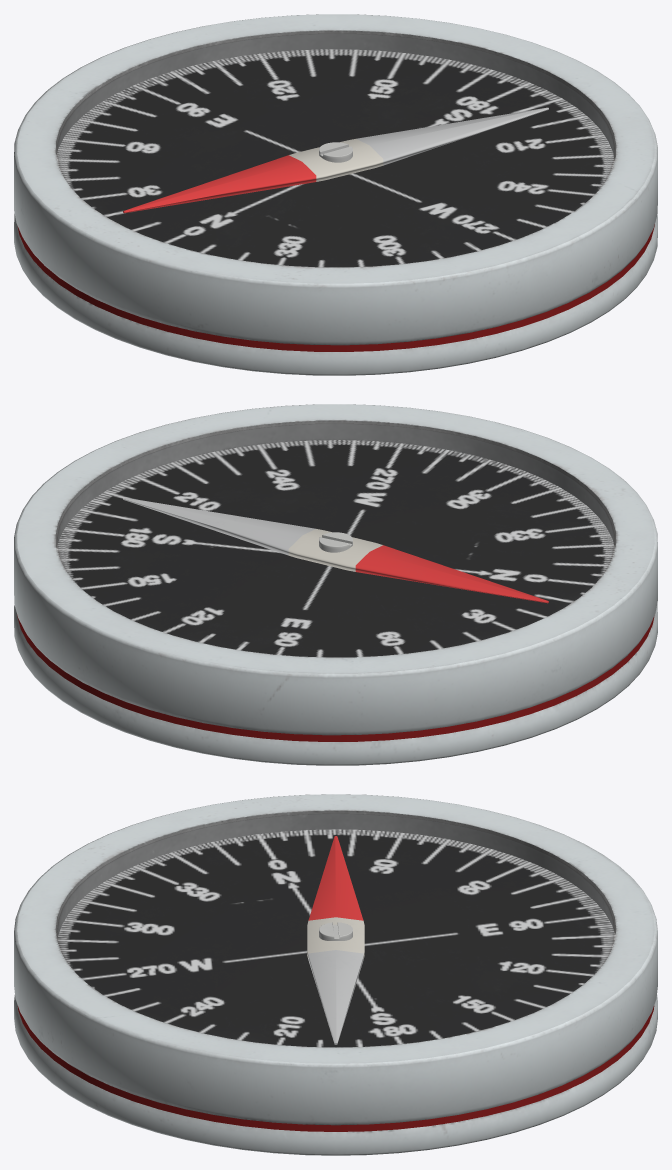
File: compass.fbx
The picture shows the model from 3 angles, top to bottom: view 1: azimuth 30°, elevation 25°; view 2: azimuth 150°, elevation 25°; view 3: azimuth 270°, elevation 25°; orthographic projection.
Visible parts, largest first — view 1: Circle.001, Cube.002, Circle.003, Circle.002; view 2: Circle.001, Cube.002, Circle.003, Circle.002; view 3: Circle.001, Cube.002, Circle.003, Circle.002.
Boxes of the visible parts, x1,y1,x2,y2 form: Circle.001: (14,14,657,375); Cube.002: (123,107,548,213); Circle.003: (57,34,614,242); Circle.002: (319,142,352,162); Circle.001: (14,404,657,765); Cube.002: (123,497,548,603); Circle.003: (57,424,614,643); Circle.002: (319,532,352,552); Circle.001: (14,794,657,1155); Cube.002: (307,836,364,1044); Circle.003: (57,814,614,1041); Circle.002: (319,922,352,940).
Size of the model in its own units: 32.79 by 6.51 by 32.79.
